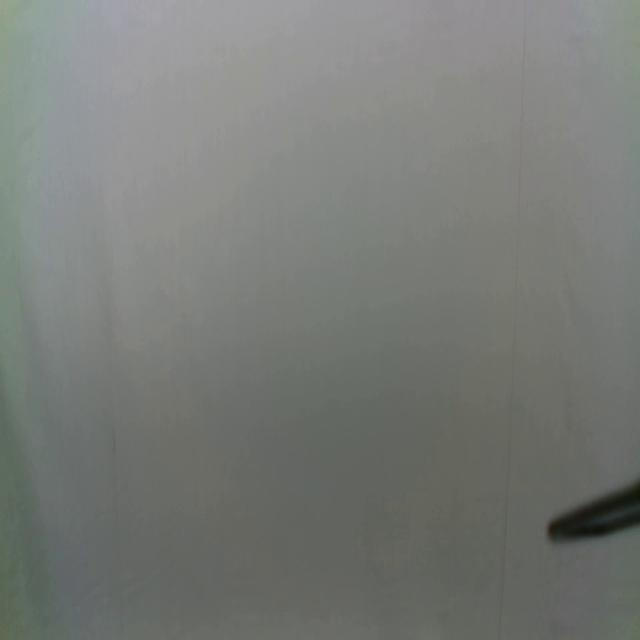crease: (496, 0, 529, 639)
